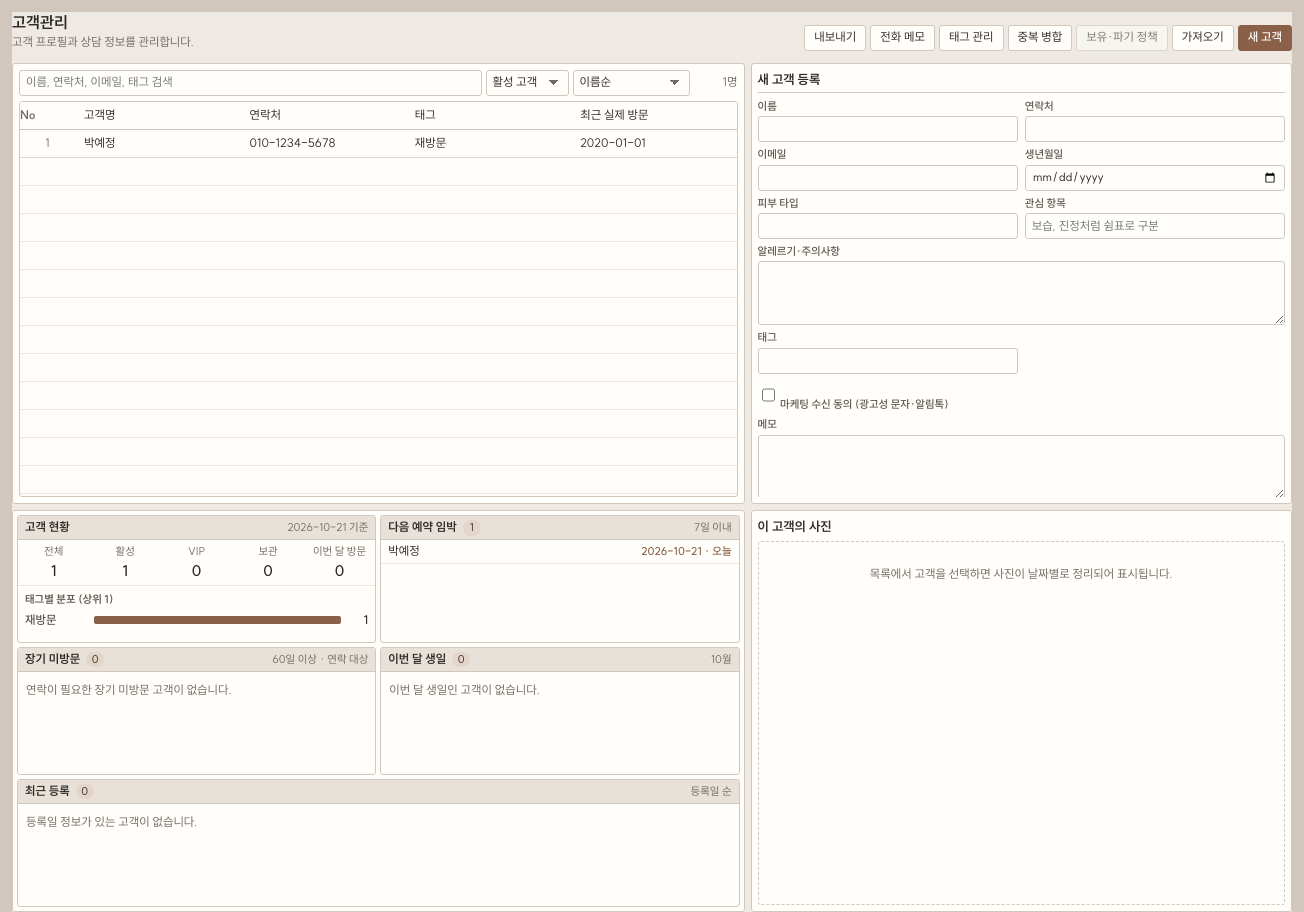
Scenario: CustomerPage › selects a customer from an insight panel and shows that customer photos area
This screenshot has width=1304, height=912.
Expected: the text "박예정" is shown, left=75, top=130, right=240, bottom=158
What coordinates should you click on to do the following:
click the button "박예정 2026-10-21 · 오늘"
I would click on:
 (404, 551)
Its box is left=381, top=540, right=739, bottom=564.
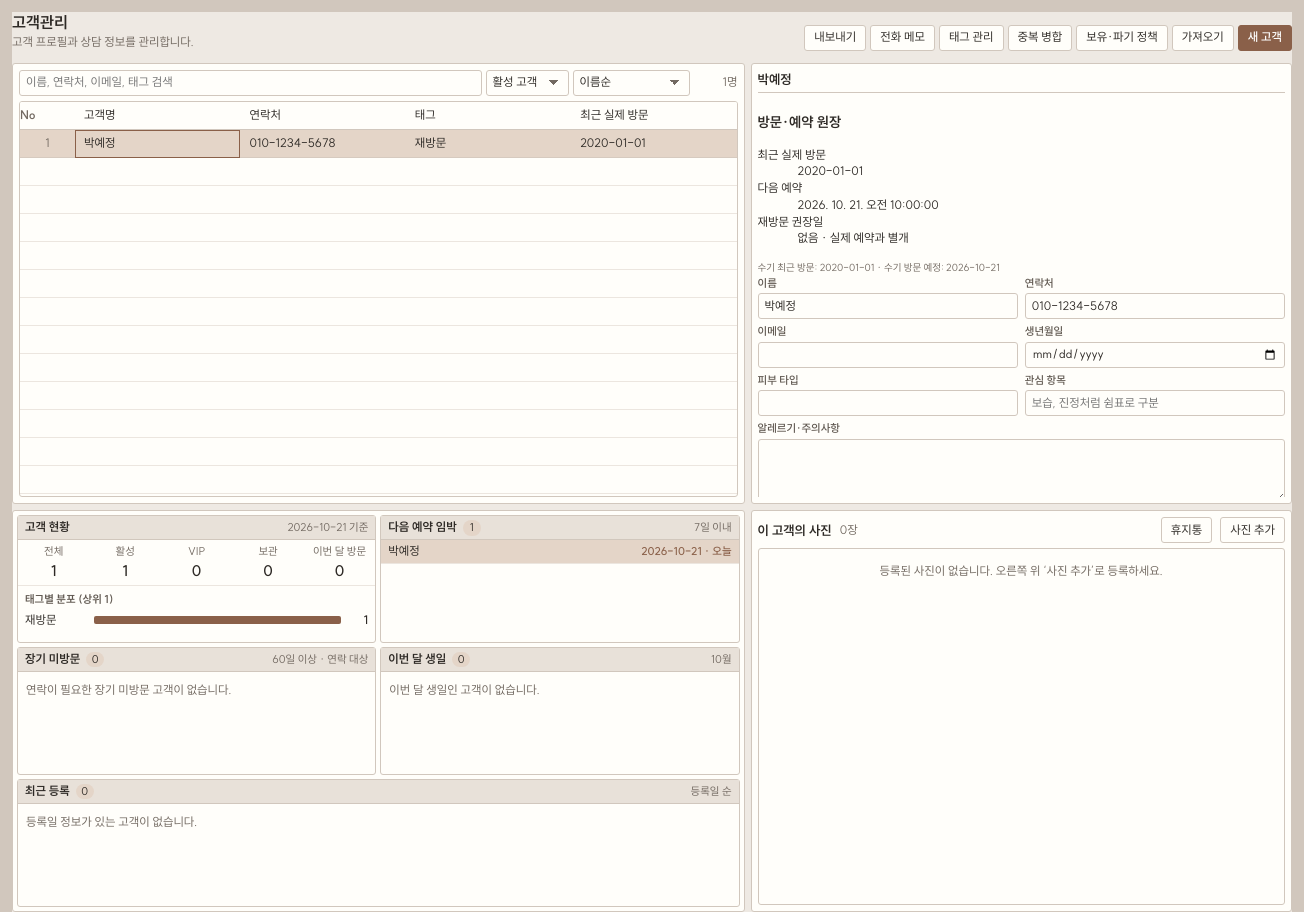
Expected: the heading "박예정" is shown, left=758, top=70, right=1285, bottom=93
Expected: the text "등록된 사진이 없습니다. 오른쪽 위 ‘사진 추가’로 등록하세요." is shown, left=880, top=563, right=1163, bottom=578
